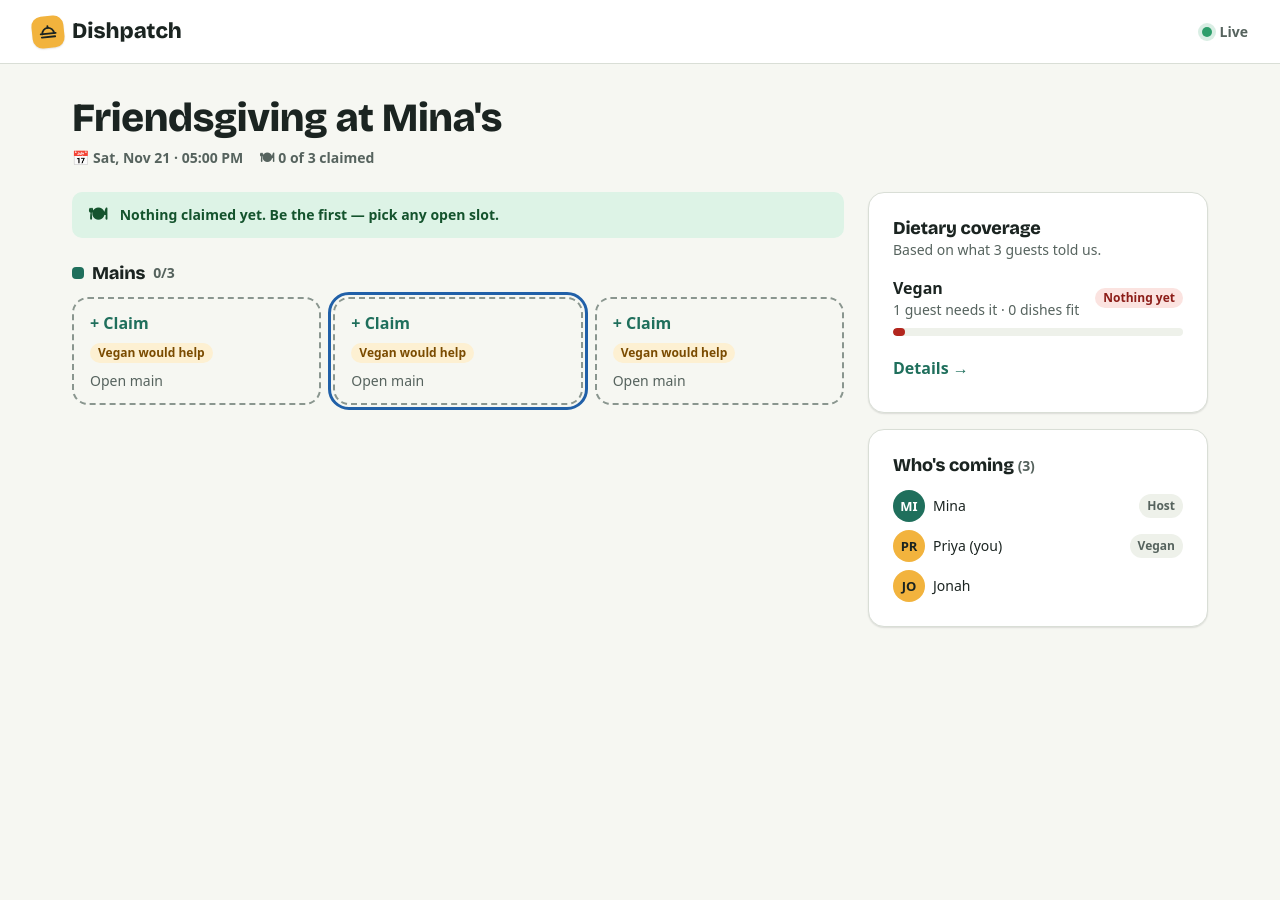
Scenario: ClaimDialog › shows an inline error for an empty dish and sends nothing
The width and height of the screenshot is (1280, 900).
Click the button with aria-label "Claim open Mains slot 2": (458,351) [333,297,583,405]
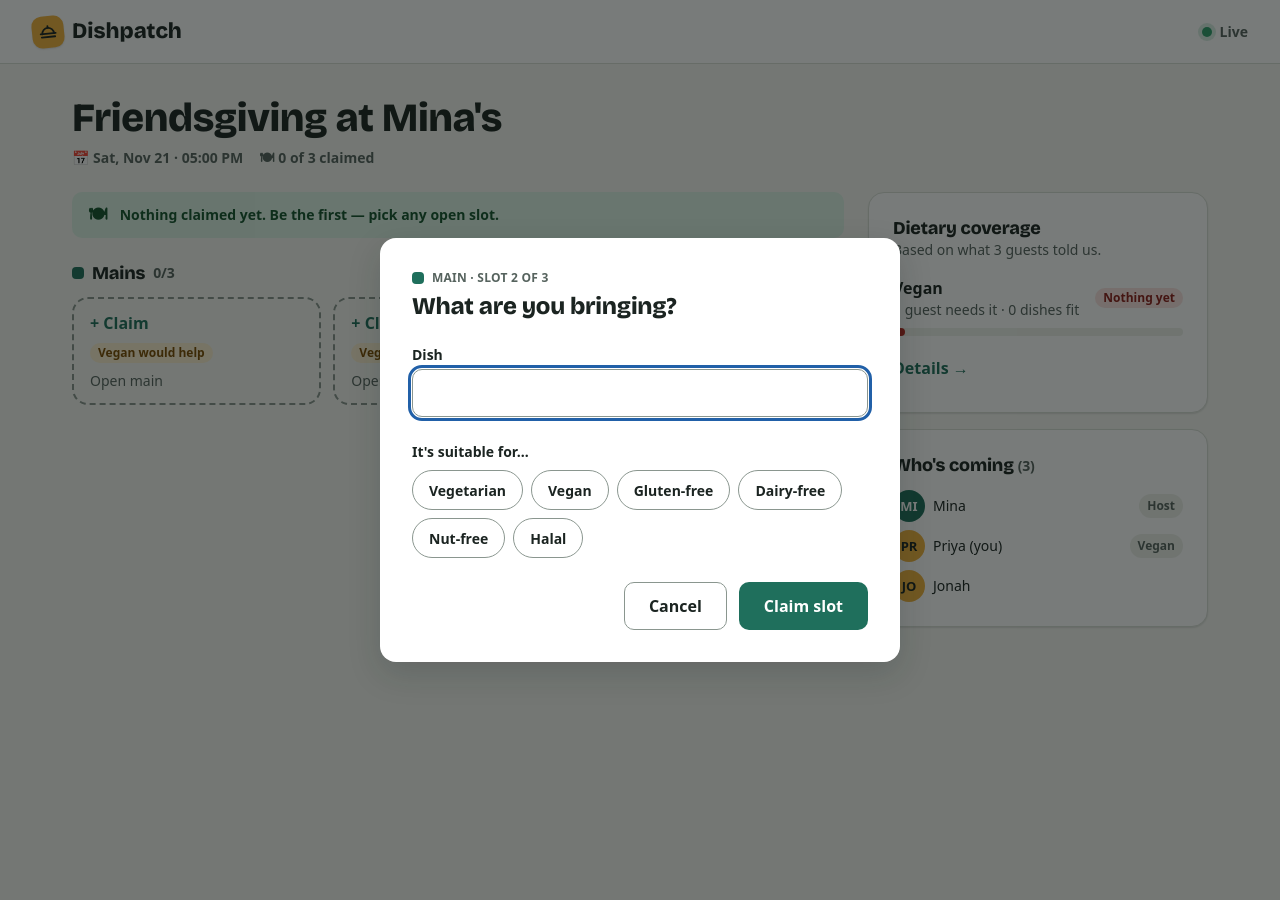
Click the button "Claim slot": (803,606) [739,582,868,630]
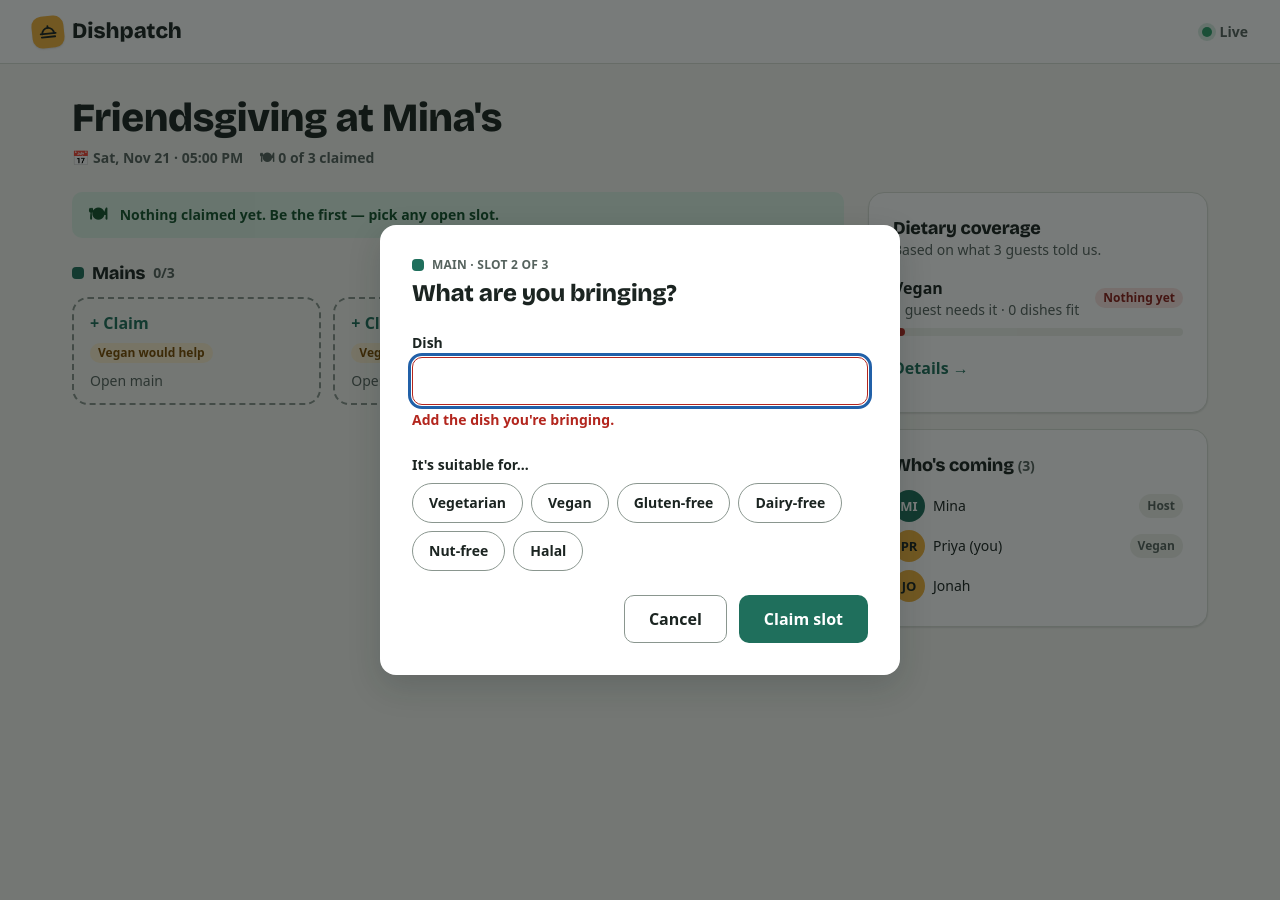
Check: the text "Add the dish you're bringing." is shown, box [412,410,614,429]
